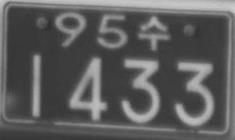1: (21, 53, 54, 117)
3: (174, 61, 216, 127), (120, 57, 161, 124)
4: (68, 57, 107, 121)
5: (97, 13, 127, 48)
9: (54, 11, 86, 47)
수: (139, 15, 169, 52)
